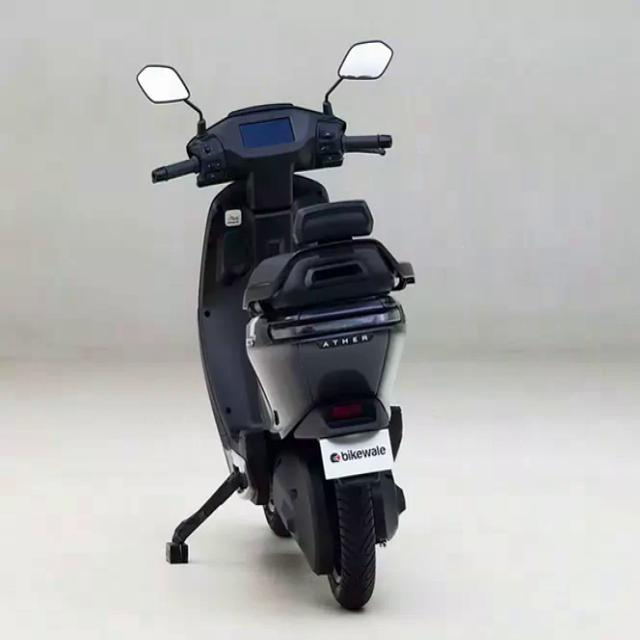objects: (124, 28, 421, 622)
